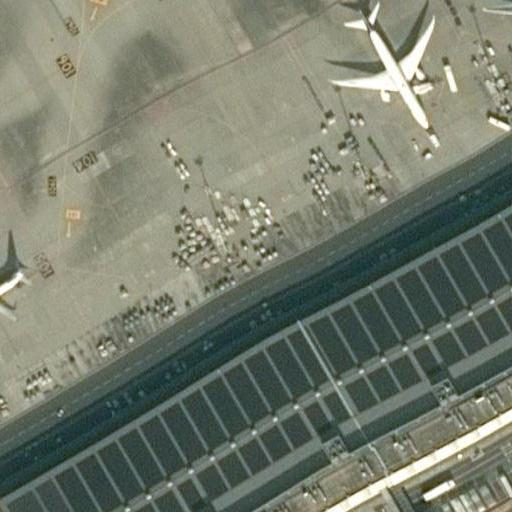Aircraft: (330, 0, 443, 120), (0, 257, 26, 318), (481, 0, 512, 47)
